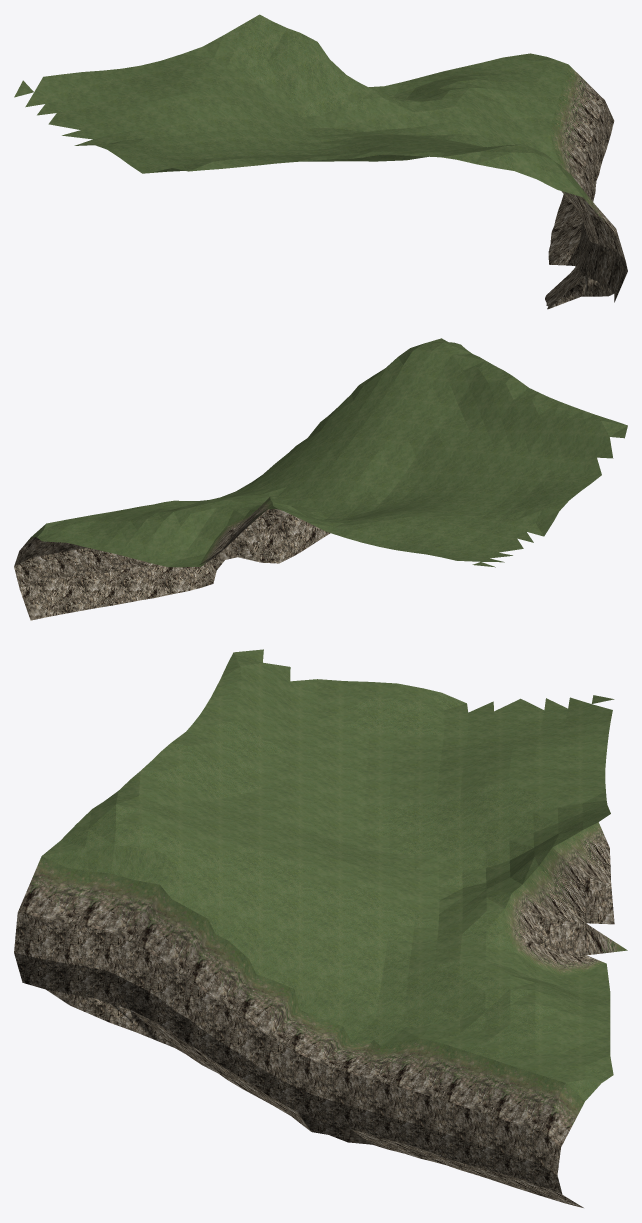
The model's file is a_carisle_mid_landmass_00_03.fbx.
3 renders of one model, top to bottom at view 1: azimuth 30°, elevation 25°; view 2: azimuth 150°, elevation 25°; view 3: azimuth 270°, elevation 25°, orthographic. The views are drawn at different scales.
Parts seen in each view (by area): view 1: a_carisle_mid_landmass_00_03; view 2: a_carisle_mid_landmass_00_03; view 3: a_carisle_mid_landmass_00_03.
Boxes of the visible parts, x1,y1,x2,y2 form: a_carisle_mid_landmass_00_03: (14,14,627,309); a_carisle_mid_landmass_00_03: (14,338,627,620); a_carisle_mid_landmass_00_03: (14,649,627,1207).
Bounding box in the file's own units: 67.46 × 56.13 × 27.09.
